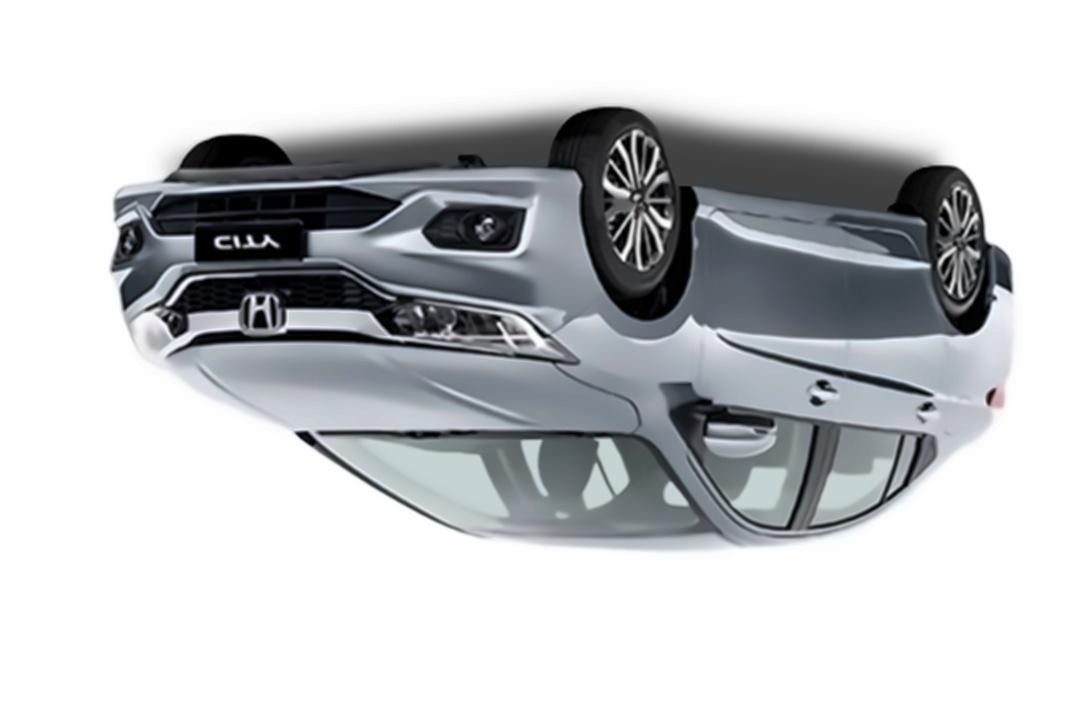Car hood: (159, 339, 646, 443)
Driver-s door - -F-R-: (693, 204, 847, 543)
Fender - -F-R-: (543, 187, 708, 441)
Fender - -R-R-: (926, 220, 1002, 410)
Front bumper: (82, 160, 608, 337)
Headlight - -L-: (113, 294, 193, 368)
Headlight - -R-: (364, 294, 585, 372)
Passenger-s door - -R-R-: (809, 219, 943, 545)
Rear bumper: (983, 234, 1029, 349)
Rear light - -R-: (974, 373, 1011, 417)
Side bumper - -R-: (680, 177, 935, 264)
Side mirror - -R-: (684, 399, 786, 463)
